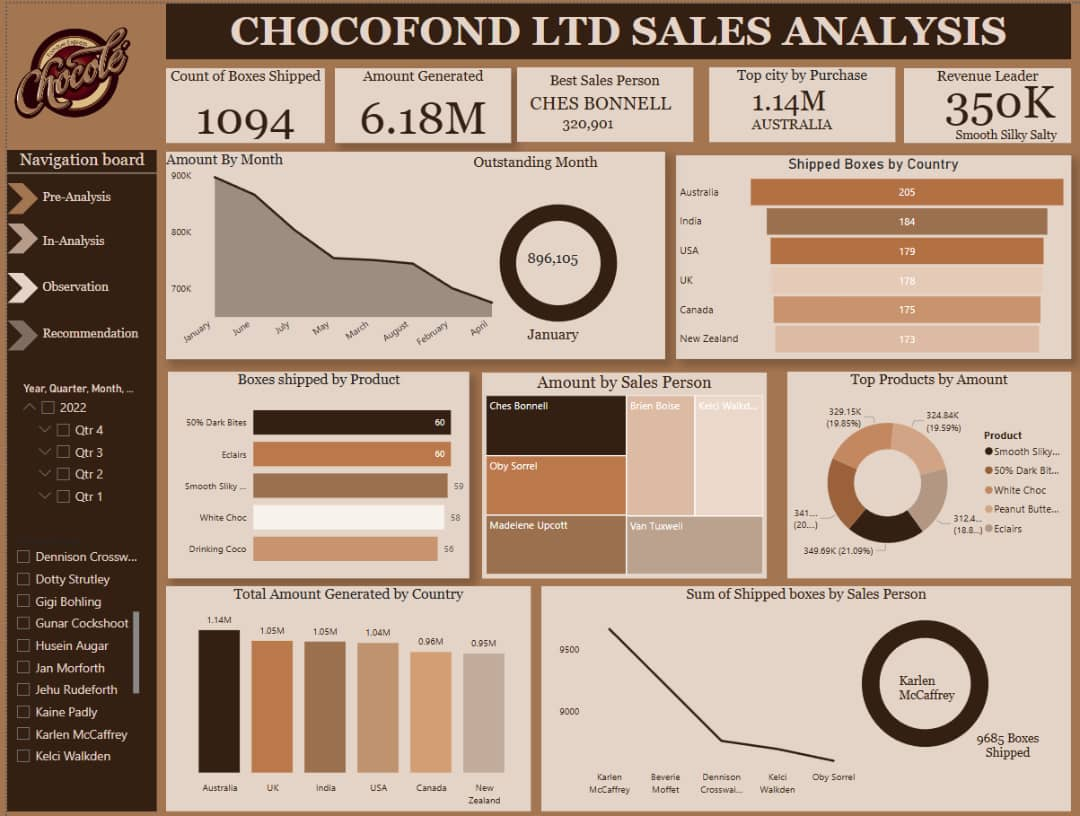

This screenshot's page, from the dashboard's own definition file:
{"tool":"powerbi","page":{"name":"Main Dashboard","canvas":[1800,1500],"ordinal":0},"visuals":[{"type":"textbox","box":[208.2,0,1185.9,72.9],"z":0},{"type":"textbox","title":"Navigation board","box":[0,191.8,196.5,867.1],"z":1000},{"type":"shape","box":[0,415.1,40.7,39.5],"z":2000},{"type":"shape","box":[0,288.4,40.7,39.5],"z":3000},{"type":"shape","box":[0,353.5,40.7,39.5],"z":4000},{"type":"shape","box":[0,234.9,40.7,40.7],"z":5000},{"type":"textbox","box":[40.7,238.4,110.5,33.7],"z":6000},{"type":"textbox","box":[40.7,417.4,145.3,33.7],"z":7000},{"type":"textbox","box":[40.7,357,110.5,31.4],"z":8000},{"type":"textbox","box":[40.7,296.5,110.5,31.4],"z":9000},{"type":"card","title":"Count of Boxes Shipped","fields":{"Values":["Table.NUMBER_OF_BOXES_SHIPPED"]},"box":[208.2,84.7,208.2,97.6],"z":10000},{"type":"funnel","title":"Shipped Boxes by Country","fields":{"Category":["Chocolate Sales.Country"],"Y":["Table.NUMBER_OF_BOXES_SHIPPED"]},"box":[876.5,198.8,517.6,267.1],"z":11000},{"type":"card","title":"Amount Generated","fields":{"Values":["Chocolate Sales.Amount"]},"box":[429.1,84.9,231.4,97.7],"z":12000},{"type":"treemap","title":"Amount by Sales Person","fields":{"Group":["Chocolate Sales.Sales Person"],"Values":["Chocolate Sales.Amount"]},"box":[623,483,373,269],"z":13000},{"type":"columnChart","title":"Boxes shipped by Product","fields":{"Category":["Chocolate Sales.Product"],"Y":["Table.NUMBER_OF_BOXES_SHIPPED"]},"box":[210.5,482.6,395.3,270.9],"z":14000},{"type":"shape","box":[668.6,83.7,231.4,97.7],"z":15000},{"type":"shape","title":"Top city by Purchase","box":[920,83.5,243.5,97.6],"z":16000},{"type":"shape","title":"Revenue Leader","box":[1175.3,84.7,218.8,97.6],"z":17000},{"type":"textbox","title":"Best Sales Person ","box":[676.8,90.2,213.4,67.1],"z":18000},{"type":"textbox","box":[722,141.5,172,39],"z":19000},{"type":"shape","title":"Amount By Month","box":[208.2,194.1,654.1,271.8],"z":20000},{"type":"areaChart","fields":{"Category":["Chocolate Sales.MonthName"],"Y":["Chocolate Sales.Amount"]},"box":[208.2,210.6,452.9,261.2],"z":21000},{"type":"donutChart","fields":{"Category":["Chocolate Sales.MonthName"],"Y":["Chocolate Sales.Amount"]},"box":[617.4,238.4,209.3,202.3],"z":22000},{"type":"textbox","box":[676.7,317.4,96.5,39.5],"z":23000},{"type":"textbox","box":[606,192,188,36],"z":24000},{"type":"textbox","box":[676.7,417.4,132.6,46.5],"z":25000},{"type":"textbox","box":[970.6,115.3,172.9,64.7],"z":26000},{"type":"image","box":[0,1.2,177.9,182.6],"z":27000},{"type":"slicer","fields":{"Values":["DateTable.Date.Variation.Date Hierarchy.Year","DateTable.Date.Variation.Date Hierarchy.Quarter","DateTable.Date.Variation.Date Hierarchy.Month","DateTable.Date.Variation.Date Hierarchy.Day"]},"box":[8.1,491.9,177.9,186],"z":28000},{"type":"card","fields":{"Values":["Chocolate Sales.Amount"]},"box":[1195.3,81.2,210.6,83.5],"z":29000},{"type":"donutChart","title":"Top Products by Amount","fields":{"Category":["Chocolate Sales.Product"],"Y":["Chocolate Sales.Amount"]},"box":[1022.4,482.4,371.8,270.6],"z":30000},{"type":"textbox","box":[1237.6,157.6,168.2,34.1],"z":31000},{"type":"clusteredColumnChart","title":"Total Amount Generated by  Country","fields":{"Y":["Chocolate Sales.Amount"],"Category":["Chocolate Sales.Country"]},"box":[199,764,478,295],"z":32000},{"type":"shape","title":"Sum of Shipped boxes by Sales Person","box":[700,763.5,694.1,295.3],"z":33000},{"type":"lineChart","fields":{"Category":["Chocolate Sales.Sales Person"],"Y":["Chocolate Sales.Boxes Shipped"]},"box":[711.8,782.4,410.6,262.4],"z":34000},{"type":"donutChart","fields":{"Category":["Chocolate Sales.Sales Person"],"Y":["Chocolate Sales.Boxes Shipped"]},"box":[1062,790,292,218],"z":35000},{"type":"textbox","box":[1163.5,872.9,92.9,75.3],"z":36000},{"type":"textbox","box":[1237.6,948.2,147.1,51.8],"z":37000},{"type":"textbox","box":[970.6,101.2,204.7,60],"z":38000},{"type":"slicer","fields":{"Values":["Chocolate Sales.Sales Person"]},"box":[1,693,178,307],"z":39000}]}

Visuals, with their boxes on the page's 1800x1500 design canvas (x1, y1, x2, y2). These are canvas units, not pixel positions in the 1080x816 screenshot, which may show the page scaled, cropped or inside an application window:
textbox: BBox(208, 0, 1394, 73)
"Navigation board" textbox: BBox(0, 192, 196, 1059)
shape: BBox(0, 415, 41, 455)
shape: BBox(0, 288, 41, 328)
shape: BBox(0, 354, 41, 393)
shape: BBox(0, 235, 41, 276)
textbox: BBox(41, 238, 151, 272)
textbox: BBox(41, 417, 186, 451)
textbox: BBox(41, 357, 151, 388)
textbox: BBox(41, 296, 151, 328)
"Count of Boxes Shipped" card: BBox(208, 85, 416, 182)
"Shipped Boxes by Country" funnel: BBox(876, 199, 1394, 466)
"Amount Generated" card: BBox(429, 85, 660, 183)
"Amount by Sales Person" treemap: BBox(623, 483, 996, 752)
"Boxes shipped by Product" columnChart: BBox(210, 483, 606, 754)
shape: BBox(669, 84, 900, 181)
"Top city by Purchase" shape: BBox(920, 84, 1164, 181)
"Revenue Leader" shape: BBox(1175, 85, 1394, 182)
"Best Sales Person " textbox: BBox(677, 90, 890, 157)
textbox: BBox(722, 142, 894, 180)
"Amount By Month" shape: BBox(208, 194, 862, 466)
areaChart - Chocolate Sales.MonthName x Chocolate Sales.Amount: BBox(208, 211, 661, 472)
donutChart - Chocolate Sales.MonthName x Chocolate Sales.Amount: BBox(617, 238, 827, 441)
textbox: BBox(677, 317, 773, 357)
textbox: BBox(606, 192, 794, 228)
textbox: BBox(677, 417, 809, 464)
textbox: BBox(971, 115, 1144, 180)
image: BBox(0, 1, 178, 184)
slicer - DateTable.Date.Variation.Date Hierarchy.Year x DateTable.Date.Variation.Date Hierarchy.Quarter: BBox(8, 492, 186, 678)
card - Chocolate Sales.Amount: BBox(1195, 81, 1406, 165)
"Top Products by Amount" donutChart: BBox(1022, 482, 1394, 753)
textbox: BBox(1238, 158, 1406, 192)
"Total Amount Generated by  Country" clusteredColumnChart: BBox(199, 764, 677, 1059)
"Sum of Shipped boxes by Sales Person" shape: BBox(700, 764, 1394, 1059)
lineChart - Chocolate Sales.Sales Person x Chocolate Sales.Boxes Shipped: BBox(712, 782, 1122, 1045)
donutChart - Chocolate Sales.Sales Person x Chocolate Sales.Boxes Shipped: BBox(1062, 790, 1354, 1008)
textbox: BBox(1164, 873, 1256, 948)
textbox: BBox(1238, 948, 1385, 1000)
textbox: BBox(971, 101, 1175, 161)
slicer - Chocolate Sales.Sales Person: BBox(1, 693, 179, 1000)
